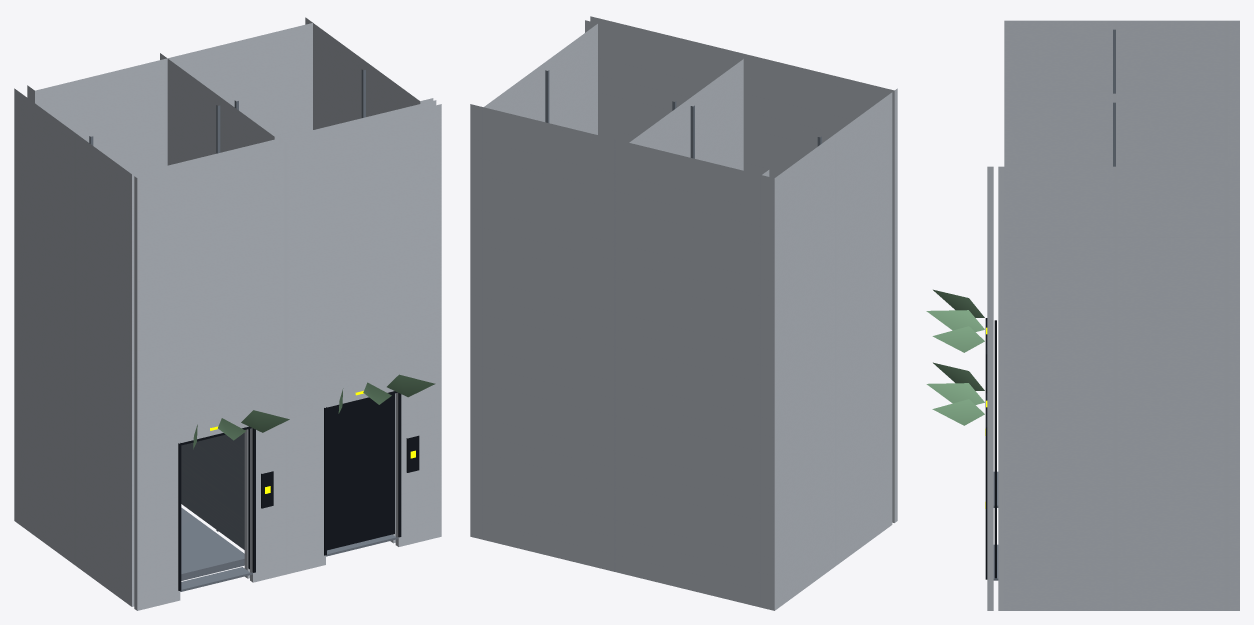
The model's file is v3_lift.glb.
3 views of the same model, side by side, from view 1: azimuth 30°, elevation 25°; view 2: azimuth 150°, elevation 25°; view 3: azimuth 270°, elevation 25° (orthographic). The views are drawn at different scales.
Visible parts, largest first — view 1: Door_Wall, Shaft_Walls, Landing_Doors, Lift_Car, Door_Jambs, Leaf_Hood, Sills, Call_Panels, Guide_Rails; view 2: Shaft_Walls, Door_Wall, Guide_Rails; view 3: Shaft_Walls, Door_Wall, Leaf_Hood, Landing_Doors, Door_Jambs.
Part boxes in pixels (box(x1,y1,x2,y2)): Door_Wall: box(129, 100, 441, 610); Shaft_Walls: box(14, 17, 433, 604); Landing_Doors: box(248, 393, 394, 569); Lift_Car: box(181, 433, 244, 580); Door_Jambs: box(178, 391, 401, 590); Leaf_Hood: box(193, 374, 435, 449); Sills: box(180, 534, 398, 591); Call_Panels: box(261, 435, 419, 508); Guide_Rails: box(89, 69, 365, 531); Shaft_Walls: box(470, 24, 889, 610); Door_Wall: box(585, 16, 897, 526); Guide_Rails: box(545, 70, 821, 158); Shaft_Walls: box(1004, 20, 1239, 610); Door_Wall: box(987, 166, 1004, 610); Leaf_Hood: box(926, 289, 984, 425); Landing_Doors: box(994, 320, 996, 578); Door_Jambs: box(985, 318, 987, 579).
Bounding box in the file's own units: 4.6 × 6.25 × 4.
5 materials, 3 textured.
